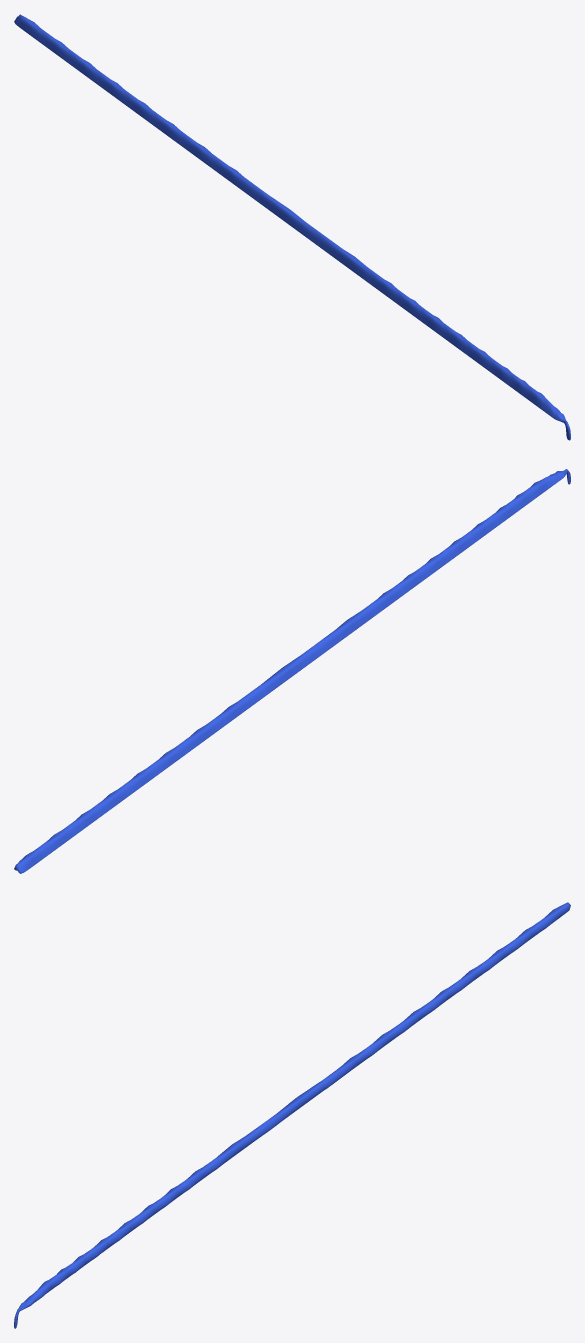
Rendered from Cascada_v2.fbx.
The picture shows the model from 3 angles, top to bottom: view 1: azimuth 30°, elevation 25°; view 2: azimuth 150°, elevation 25°; view 3: azimuth 330°, elevation 25°; orthographic projection.
Visible parts, largest first — view 1: Cylinder; view 2: Cylinder; view 3: Cylinder.
Part boxes in pixels (left/top/right/bottom): Cylinder: left=14, top=14, right=570, bottom=440; Cylinder: left=14, top=469, right=570, bottom=873; Cylinder: left=14, top=902, right=570, bottom=1328.
Size of the model in its own units: 1133 by 2946 by 120021.
